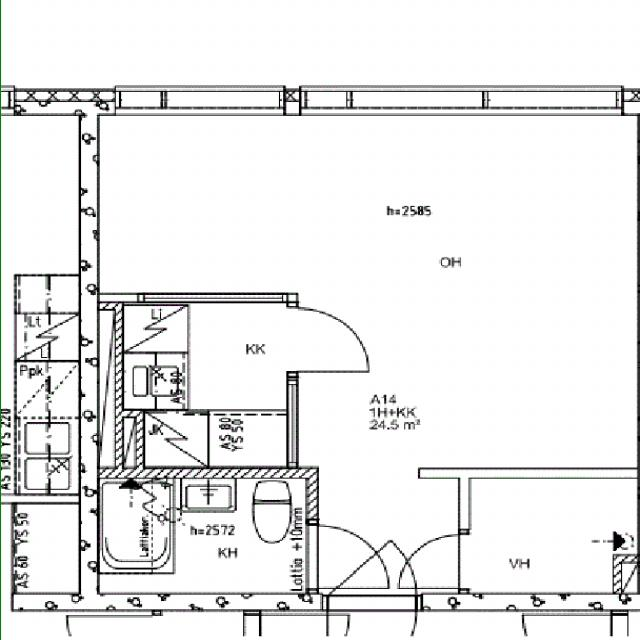door: (329, 516, 417, 608), (286, 308, 369, 371), (306, 525, 388, 587), (329, 592, 416, 640), (397, 533, 470, 588)
